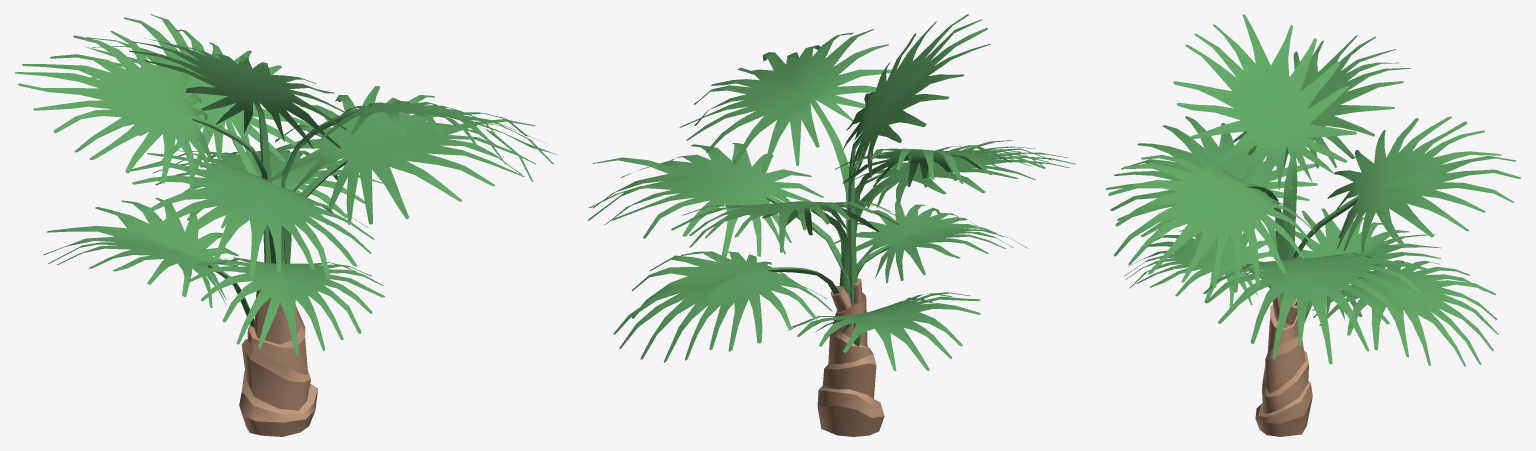
File: plant_palm_E.fbx
3 renders of one model, left to right at view 1: azimuth 30°, elevation 25°; view 2: azimuth 150°, elevation 25°; view 3: azimuth 270°, elevation 25°, orthographic. The views are drawn at different scales.
Visible parts, largest first — view 1: plant_palm_E_leaf_09, plant_palm_E_leaf_02, plant_palm_E_leaf_05, plant_palm_E_trunk, plant_palm_E_leaf_08, plant_palm_E_leaf_07, plant_palm_E_leaf_06, plant_palm_E_leaf_04, plant_palm_E_leaf_03, plant_palm_E_leaf_01; view 2: plant_palm_E_leaf_03, plant_palm_E_leaf_01, plant_palm_E_leaf_02, plant_palm_E_leaf_08, plant_palm_E_trunk, plant_palm_E_leaf_07, plant_palm_E_leaf_06, plant_palm_E_leaf_04, plant_palm_E_leaf_05, plant_palm_E_leaf_09; view 3: plant_palm_E_leaf_08, plant_palm_E_leaf_03, plant_palm_E_leaf_04, plant_palm_E_leaf_02, plant_palm_E_leaf_01, plant_palm_E_trunk, plant_palm_E_leaf_09, plant_palm_E_leaf_05, plant_palm_E_leaf_06, plant_palm_E_leaf_07.
Part boxes in pixels (<box>): plant_palm_E_leaf_09: <box>14,31,275,263</box>; plant_palm_E_leaf_02: <box>259,86,535,263</box>; plant_palm_E_leaf_05: <box>130,150,374,279</box>; plant_palm_E_trunk: <box>239,290,317,436</box>; plant_palm_E_leaf_08: <box>129,37,346,262</box>; plant_palm_E_leaf_07: <box>187,257,384,355</box>; plant_palm_E_leaf_06: <box>43,197,254,327</box>; plant_palm_E_leaf_04: <box>85,14,310,175</box>; plant_palm_E_leaf_03: <box>281,100,557,259</box>; plant_palm_E_leaf_01: <box>153,150,382,227</box>; plant_palm_E_leaf_03: <box>679,29,891,237</box>; plant_palm_E_leaf_01: <box>613,251,839,362</box>; plant_palm_E_leaf_02: <box>587,143,850,293</box>; plant_palm_E_leaf_08: <box>843,14,990,305</box>; plant_palm_E_trunk: <box>817,276,884,436</box>; plant_palm_E_leaf_07: <box>834,201,1027,283</box>; plant_palm_E_leaf_06: <box>788,292,980,371</box>; plant_palm_E_leaf_04: <box>671,201,899,289</box>; plant_palm_E_leaf_05: <box>854,140,1075,222</box>; plant_palm_E_leaf_09: <box>835,148,1048,296</box>; plant_palm_E_leaf_08: <box>1173,14,1356,259</box>; plant_palm_E_leaf_03: <box>1108,149,1314,292</box>; plant_palm_E_leaf_04: <box>1293,116,1521,257</box>; plant_palm_E_leaf_02: <box>1203,252,1421,364</box>; plant_palm_E_leaf_01: <box>1294,260,1498,366</box>; plant_palm_E_trunk: <box>1255,295,1312,436</box>; plant_palm_E_leaf_09: <box>1233,35,1410,259</box>; plant_palm_E_leaf_05: <box>1106,116,1317,305</box>; plant_palm_E_leaf_06: <box>1269,208,1440,323</box>; plant_palm_E_leaf_07: <box>1124,226,1272,307</box>.
Bounding box in the file's own units: 273 × 228 × 239.
